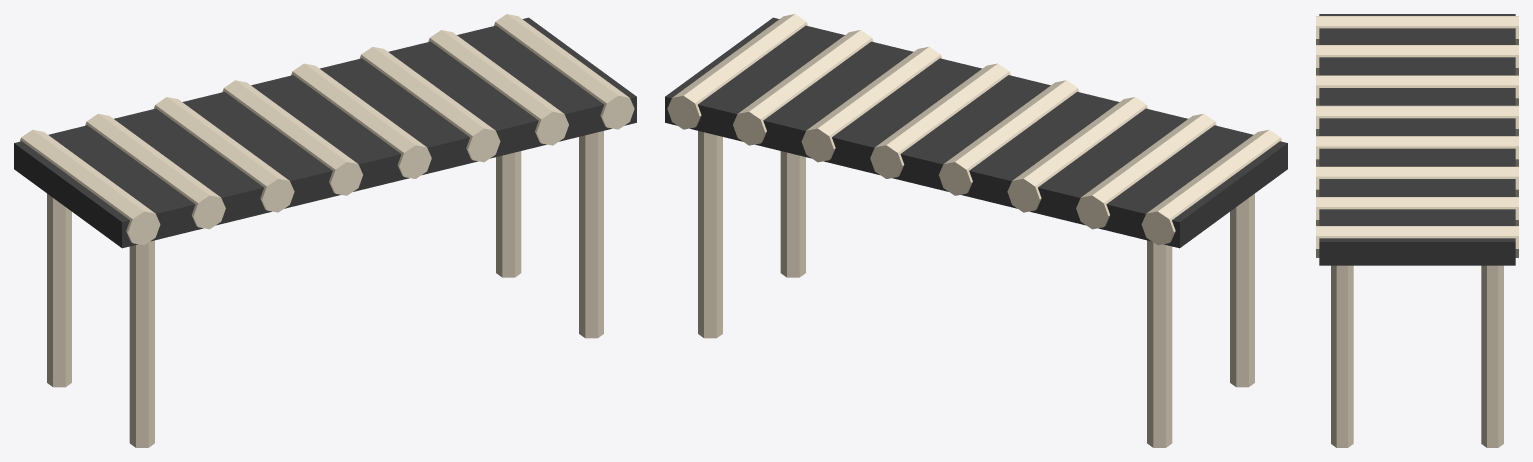
3 views of the same model, side by side, from view 1: azimuth 30°, elevation 25°; view 2: azimuth 150°, elevation 25°; view 3: azimuth 270°, elevation 25° (orthographic). The views are drawn at different scales.
Visible parts, largest first — view 1: Belt, Leg, Leg.002, Leg.001, Roller, Roller.002, Roller.001, Roller.003, Roller.004, Roller.005, Roller.007, Roller.006 (+1 smaller); view 2: Belt, Leg.001, Leg.003, Leg, Roller, Roller.002, Roller.001, Roller.003, Roller.004, Roller.005, Roller.007, Roller.006 (+1 smaller); view 3: Belt, Leg.002, Leg.003, Roller.003, Roller.007, Roller.002, Roller.004, Roller.005, Roller.001, Roller, Roller.006.
Part boxes in pixels (box(x1,y1,x2,y2)): Belt: box(14, 17, 636, 248); Leg: box(129, 240, 154, 447); Leg.002: box(579, 131, 603, 338); Leg.001: box(47, 193, 71, 387); Roller: box(19, 129, 160, 245); Roller.002: box(154, 97, 294, 212); Roller.001: box(85, 113, 225, 229); Roller.003: box(222, 80, 362, 195); Roller.004: box(291, 63, 431, 178); Roller.005: box(359, 46, 500, 162); Roller.007: box(494, 14, 634, 129); Roller.006: box(428, 30, 568, 145); Belt: box(665, 17, 1287, 248); Leg.001: box(1147, 240, 1172, 447); Leg.003: box(698, 131, 722, 338); Leg: box(1230, 193, 1254, 387); Roller: box(1141, 129, 1282, 245); Roller.002: box(1007, 97, 1147, 212); Roller.001: box(1076, 113, 1216, 229); Roller.003: box(939, 80, 1079, 195); Roller.004: box(870, 63, 1010, 178); Roller.005: box(801, 46, 942, 162); Roller.007: box(667, 14, 807, 129); Roller.006: box(733, 30, 873, 145); Belt: box(1319, 14, 1515, 265); Leg.002: box(1331, 265, 1353, 447); Leg.003: box(1481, 265, 1503, 447); Roller.003: box(1316, 105, 1518, 135); Roller.007: box(1316, 226, 1518, 257); Roller.002: box(1316, 75, 1518, 105); Roller.004: box(1316, 136, 1518, 166); Roller.005: box(1316, 166, 1518, 196); Roller.001: box(1316, 45, 1518, 75); Roller: box(1316, 16, 1518, 44); Roller.006: box(1316, 197, 1518, 225).
Size of the model in its own units: 165 by 75.2 by 62.
